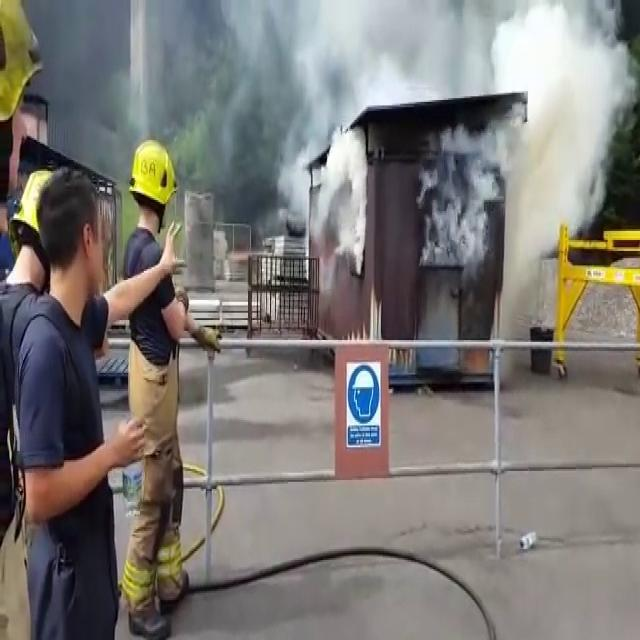Smoke: (534, 23, 604, 254), (321, 8, 516, 73), (332, 140, 389, 280)
